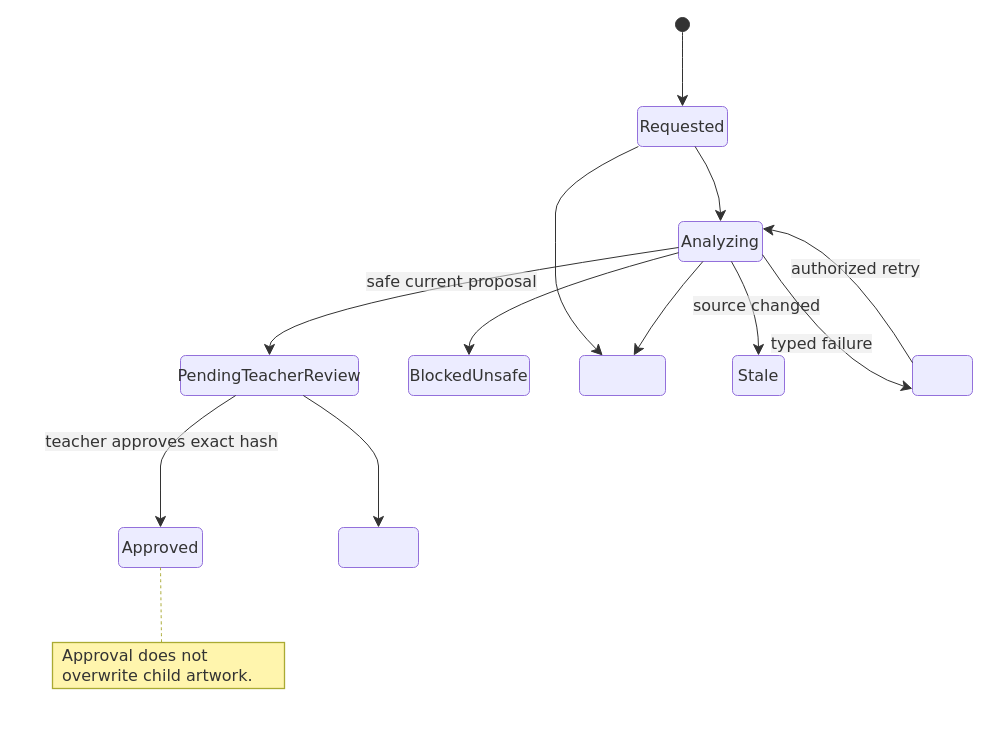
Image size: 990x731. Some labels were removed from this diagram. The centre of each missing label's shape, as x and y in pixels:
Cancelled: pixel 622 375
Failed: pixel 942 375
Rejected: pixel 378 547
